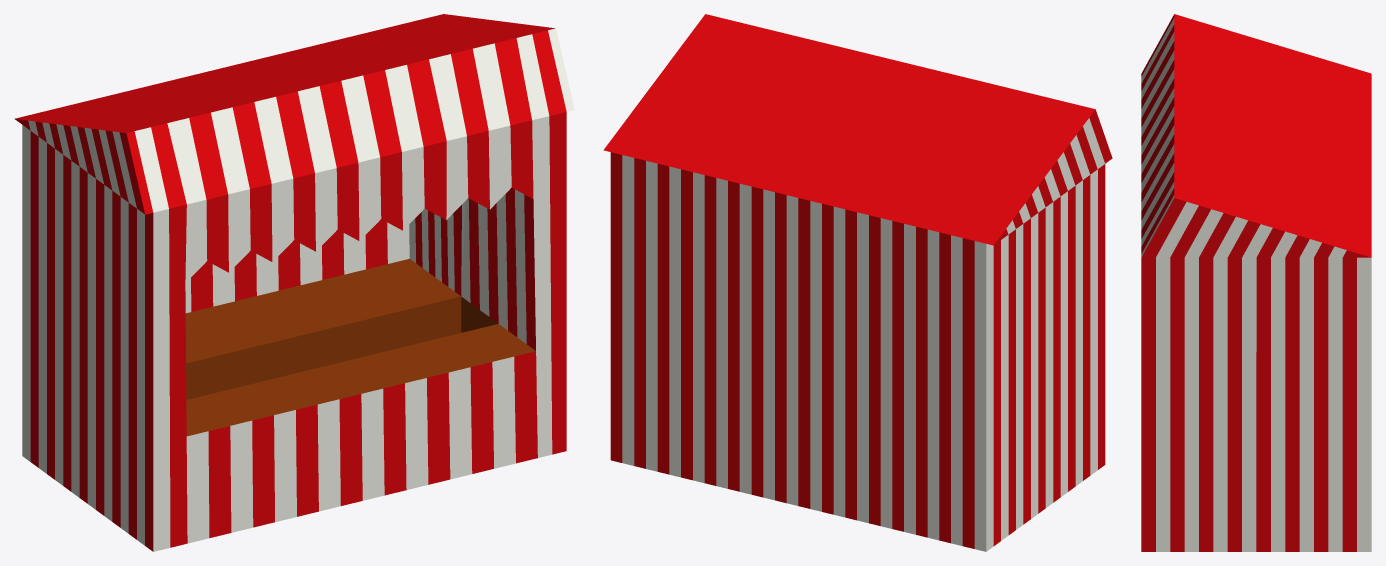
File: Puestito.fbx
The picture shows the model from 3 angles, left to right: view 1: azimuth 30°, elevation 25°; view 2: azimuth 150°, elevation 25°; view 3: azimuth 270°, elevation 25°; orthographic projection. The views are drawn at different scales.
Visible parts, largest first — view 1: group762351938; view 2: group762351938; view 3: group762351938.
Boxes of the visible parts, left/top/right/bottom form: group762351938: left=14, top=14, right=574, bottom=551; group762351938: left=603, top=14, right=1112, bottom=551; group762351938: left=1141, top=14, right=1371, bottom=551.
Size of the model in its own units: 53 by 48 by 28.
